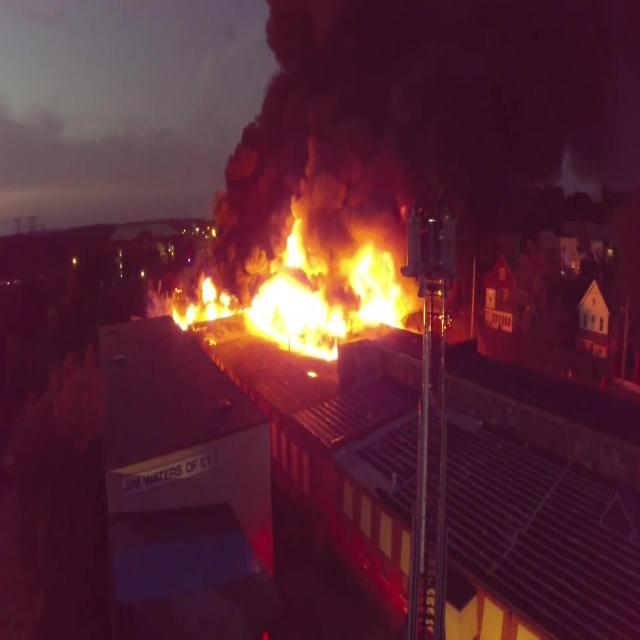Fire: (155, 180, 426, 377)
Smoke: (162, 0, 640, 312)
